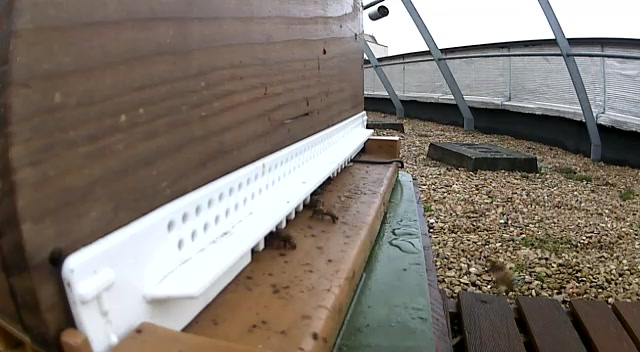bee: (484, 259, 519, 293), (268, 225, 299, 255), (312, 204, 342, 225), (304, 192, 328, 215), (320, 173, 337, 191)
